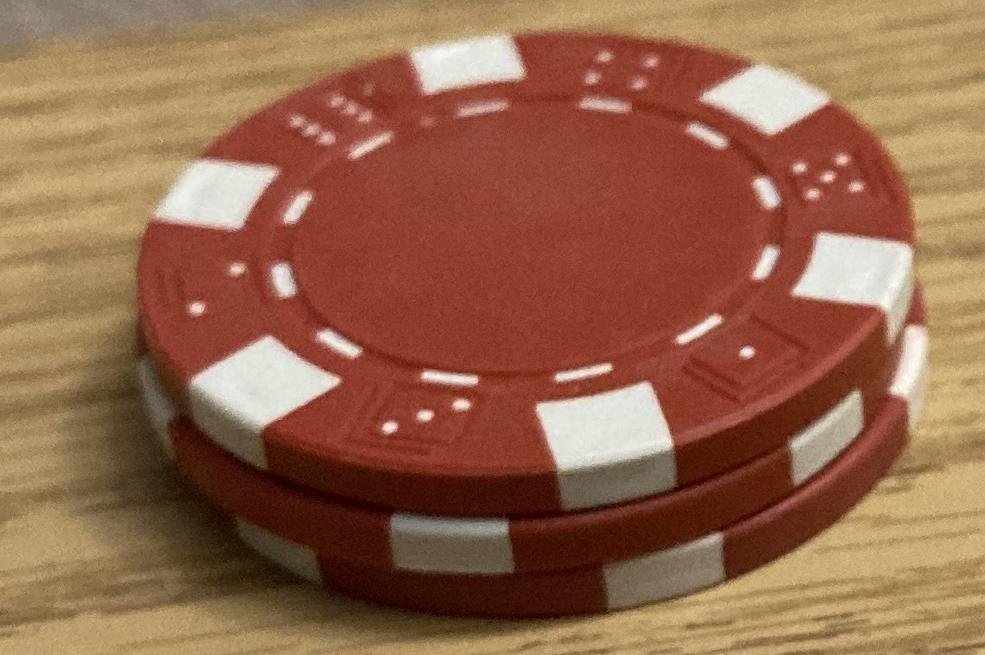Chip: (1, 1, 985, 655)
